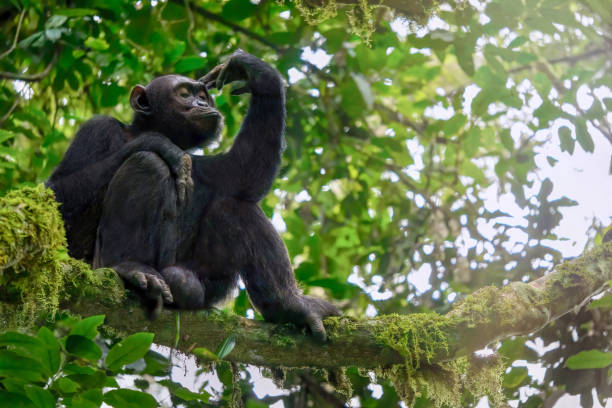chimpanzee: (126, 68, 233, 170)
